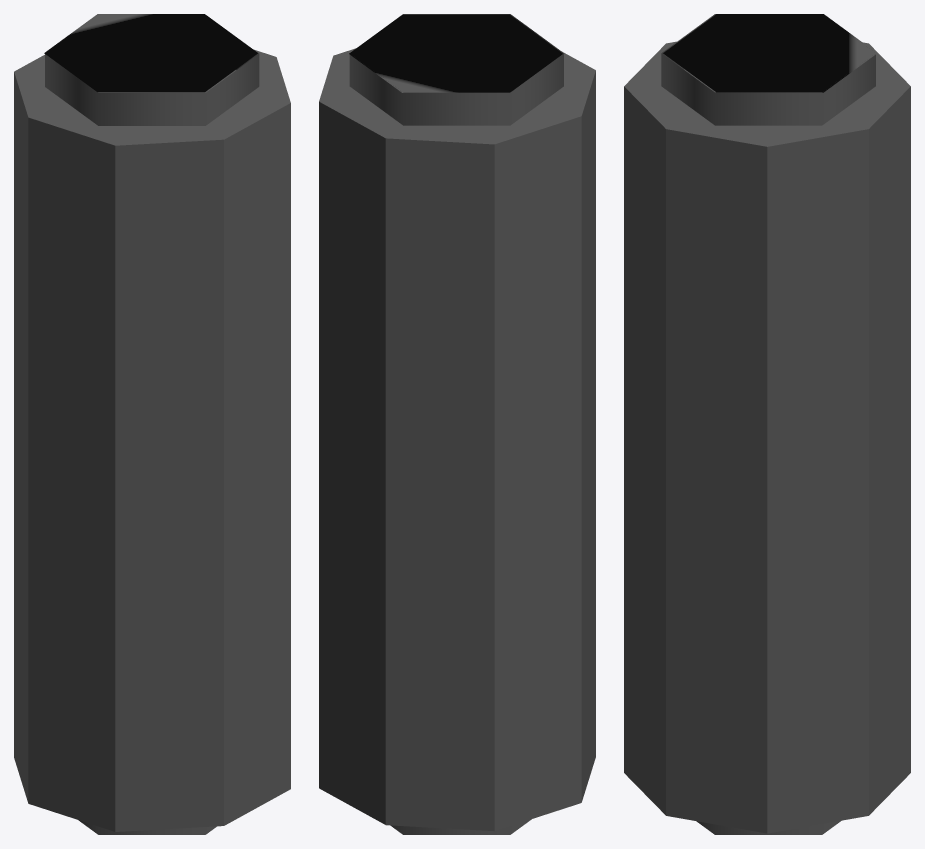
File: 12gSuppressorImproved.fbx
3 views of the same model, side by side, from view 1: azimuth 30°, elevation 25°; view 2: azimuth 150°, elevation 25°; view 3: azimuth 270°, elevation 25° (orthographic).
Parts seen in each view (by area): view 1: node_a5995536_9fb9_4045_8853_7a3be3a2eb1f_mesh0; view 2: node_a5995536_9fb9_4045_8853_7a3be3a2eb1f_mesh0; view 3: node_a5995536_9fb9_4045_8853_7a3be3a2eb1f_mesh0.
Part boxes in pixels (x1,y1,x2,y2): node_a5995536_9fb9_4045_8853_7a3be3a2eb1f_mesh0: (14, 14, 290, 834); node_a5995536_9fb9_4045_8853_7a3be3a2eb1f_mesh0: (319, 14, 595, 834); node_a5995536_9fb9_4045_8853_7a3be3a2eb1f_mesh0: (624, 14, 910, 834).
Size of the model in its own units: 0.0407 by 0.1168 by 0.0407.
